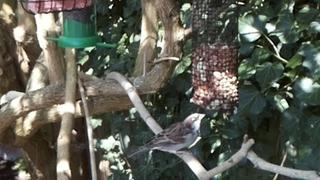sparrow: (127, 113, 206, 159)
